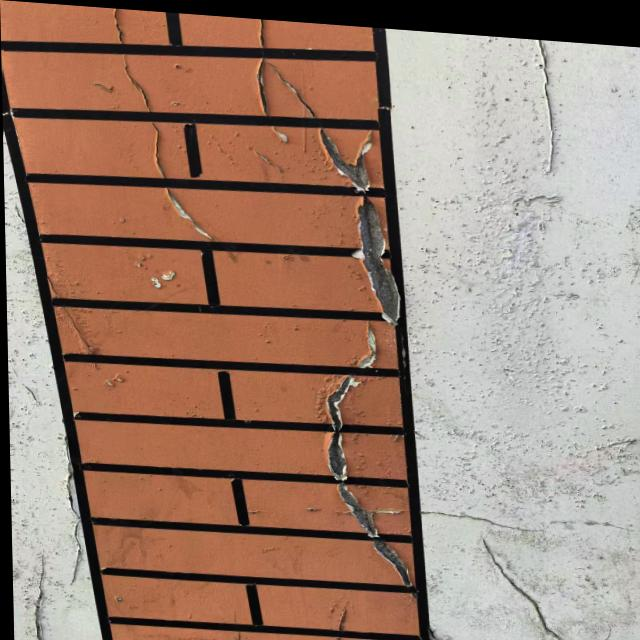crack: (120, 59, 224, 250), (8, 204, 107, 359), (481, 532, 587, 640), (376, 501, 640, 538), (54, 419, 95, 590), (528, 44, 567, 178), (248, 65, 323, 134), (32, 555, 50, 638), (333, 587, 357, 640), (588, 614, 629, 640), (418, 609, 452, 640)
spalling: (320, 315, 423, 601), (437, 293, 512, 382), (355, 195, 404, 324), (307, 119, 377, 197)
